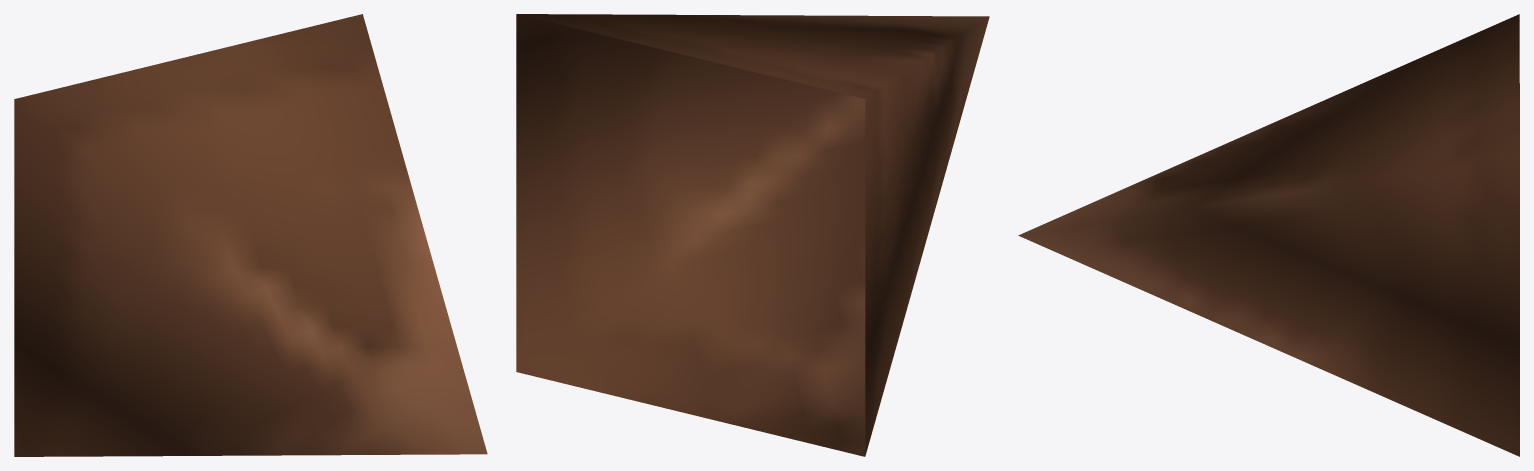
The model's file is sn_jiguan_tielong_011.FBX.
3 views of the same model, side by side, from view 1: azimuth 30°, elevation 25°; view 2: azimuth 150°, elevation 25°; view 3: azimuth 270°, elevation 25° (orthographic). The views are drawn at different scales.
Visible parts, largest first — view 1: sn_jiguan_tielong_011; view 2: sn_jiguan_tielong_011; view 3: sn_jiguan_tielong_011.
Part boxes in pixels (x1,y1,x2,y2): sn_jiguan_tielong_011: (14,14,487,456); sn_jiguan_tielong_011: (516,14,989,456); sn_jiguan_tielong_011: (1018,14,1519,456).
Size of the model in its own units: 30.8 by 30.2 by 45.76.
